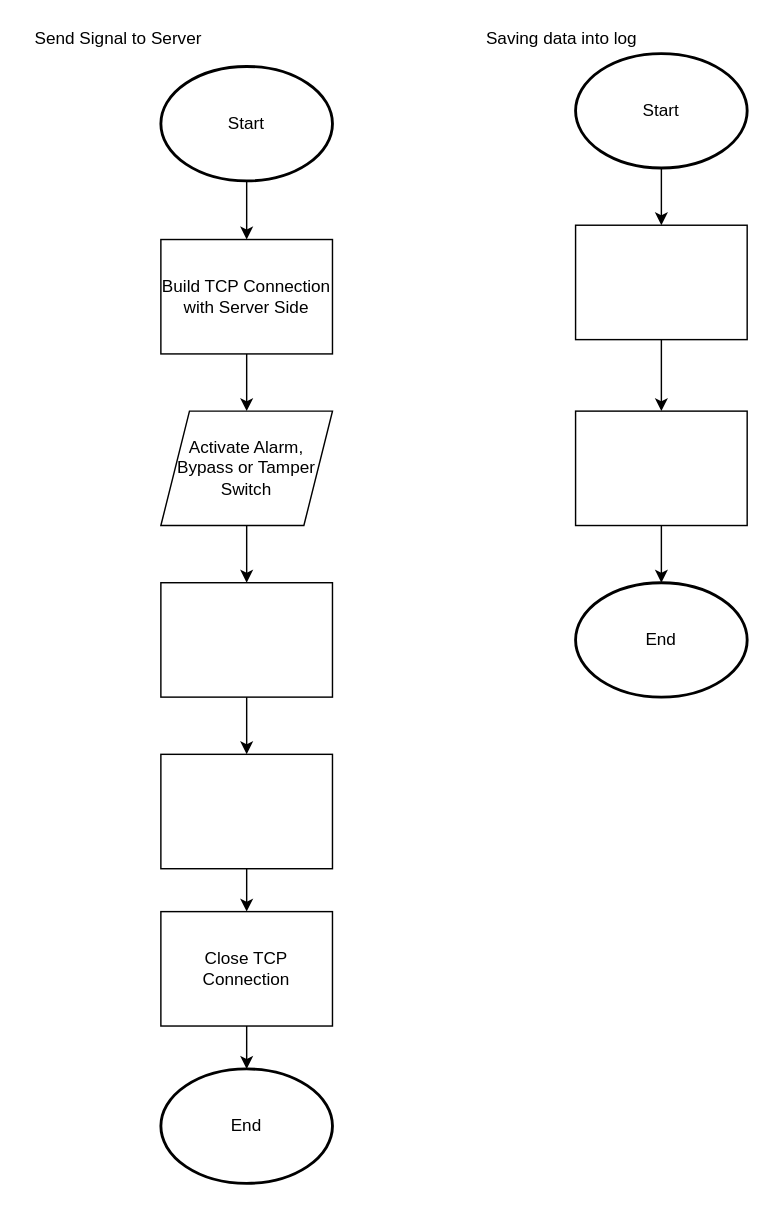
Image size: 772x1208. Some labels were removed from this diagram. The shapes that lost their labels are listed below. From the top down, each one's centre as x and y in pixels, then its label:
point 660,282: Get date, time, zone name and status
point 660,468: Save into a file
point 245,639: Send numeric constant value "0", "1", "2", "3", "4", "5", "6", or "7"
point 245,811: Send zone status "Normal", "Alarm", "Bypass" or "Tamper"
